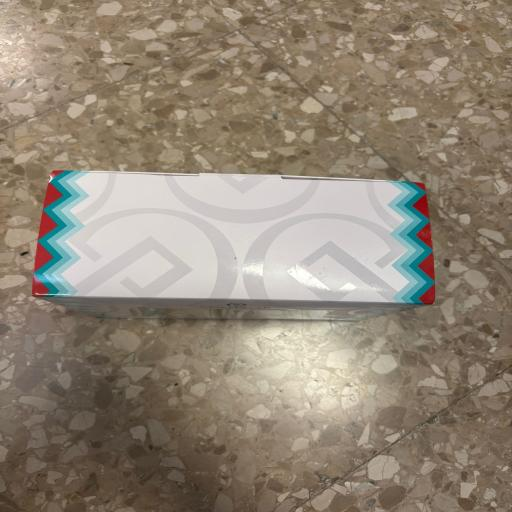caja_1: (34, 171, 434, 319)
